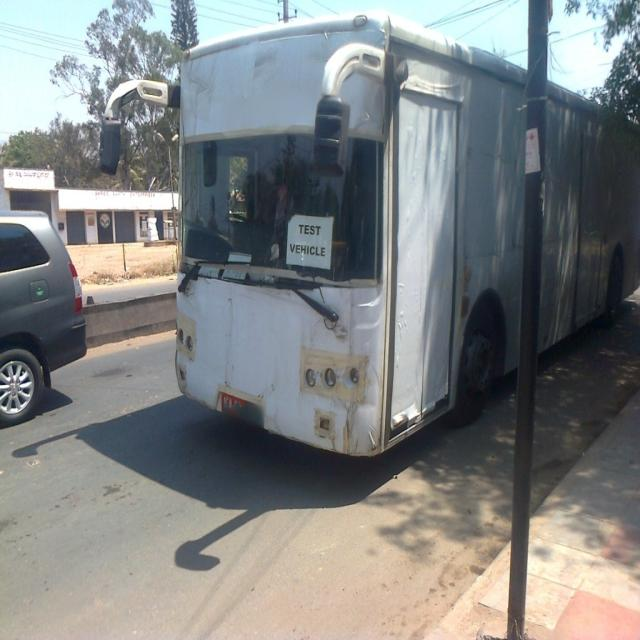bus: (101, 15, 640, 455)
